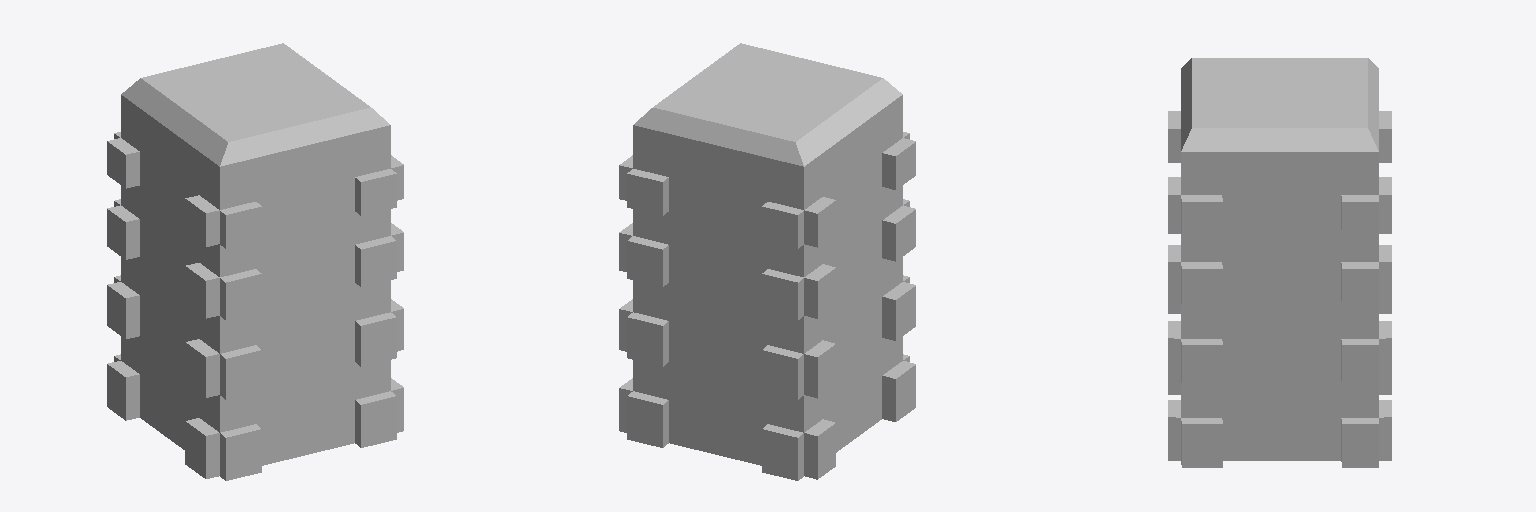
File: TowerNoGlow01.obj
3 renders of one model, left to right at view 1: azimuth 30°, elevation 25°; view 2: azimuth 150°, elevation 25°; view 3: azimuth 270°, elevation 25°, orthographic.
Bounding box in the file's own units: 2.32 × 3.65 × 2.27.